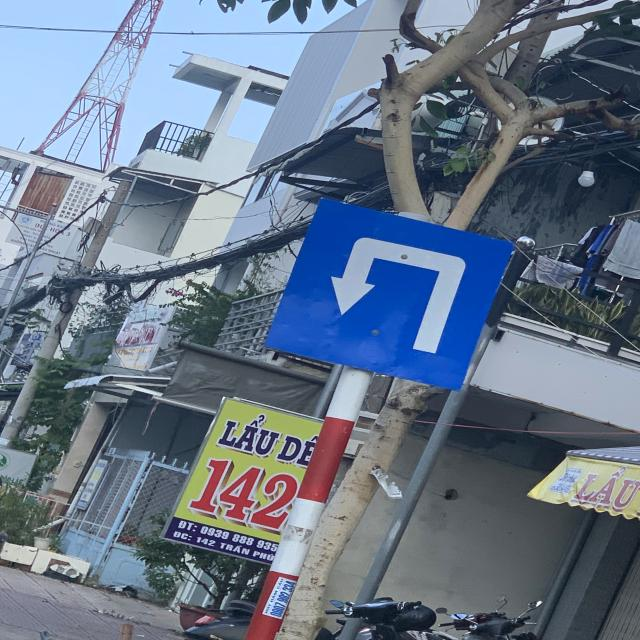Den_Giao_Thong: (256, 197, 506, 387)
